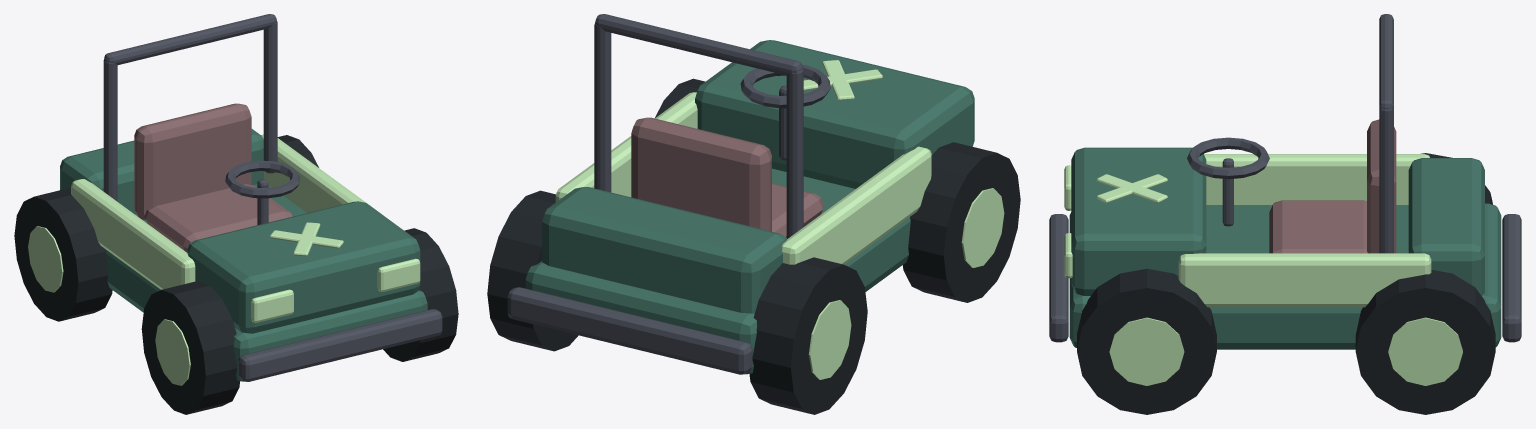
The model's file is scripticx-rover.glb.
3 views of the same model, side by side, from view 1: azimuth 30°, elevation 25°; view 2: azimuth 150°, elevation 25°; view 3: azimuth 270°, elevation 25° (orthographic). The views are drawn at different scales.
Parts seen in each view (by area): view 1: Hood, Seat back, Wheel, Wheel.001, Chassis, Bumper, Side trim, Seat cushion, Wheel.002, Rear deck, Side trim.001, Roll bar top (+11 smaller); view 2: Hood, Rear deck, Wheel.001, Seat back, Wheel, Chassis, Bumper.001, Side trim, Wheel.003, Roll bar top, Roll bar.001, Roll bar (+9 smaller); view 3: Hood, Chassis, Wheel.002, Wheel.003, Side trim.001, Rear deck, Side trim, Seat cushion, Hub.003, Hub.002, Bumper.001, Bumper (+7 smaller).
Part boxes in pixels (x1,y1,x2,y2): Hood: (187,201,420,333); Seat back: (134,103,251,220); Wheel: (141,281,240,414); Wheel.001: (14,188,112,321); Chassis: (106,184,427,381); Bumper: (238,309,442,381); Side trim: (71,179,195,289); Seat cushion: (144,184,292,252); Wheel.002: (383,228,458,361); Rear deck: (60,129,263,214); Side trim.001: (261,134,380,213); Roll bar top: (104,14,276,64); Hood: (695,40,974,188); Rear deck: (542,187,787,313); Wheel.001: (749,257,867,414); Seat back: (631,117,771,231); Wheel: (902,142,1020,302); Chassis: (525,168,910,374); Bumper.001: (507,287,752,374); Side trim: (781,146,931,264); Wheel.003: (487,190,578,351); Roll bar top: (595,14,802,75); Roll bar.001: (594,23,611,192); Roll bar: (786,67,803,238); Hood: (1071,147,1206,295); Chassis: (1069,203,1501,349); Wheel.002: (1077,268,1216,414); Wheel.003: (1355,269,1495,414); Side trim.001: (1178,253,1431,307); Rear deck: (1408,158,1484,295); Side trim: (1204,154,1429,204); Seat cushion: (1269,200,1367,253); Hub.003: (1388,317,1462,385); Hub.002: (1109,317,1184,385); Bumper.001: (1502,214,1521,342); Bumper: (1049,214,1068,342).
Bounding box in the file's own units: 1.98 × 1.96 × 2.9.
